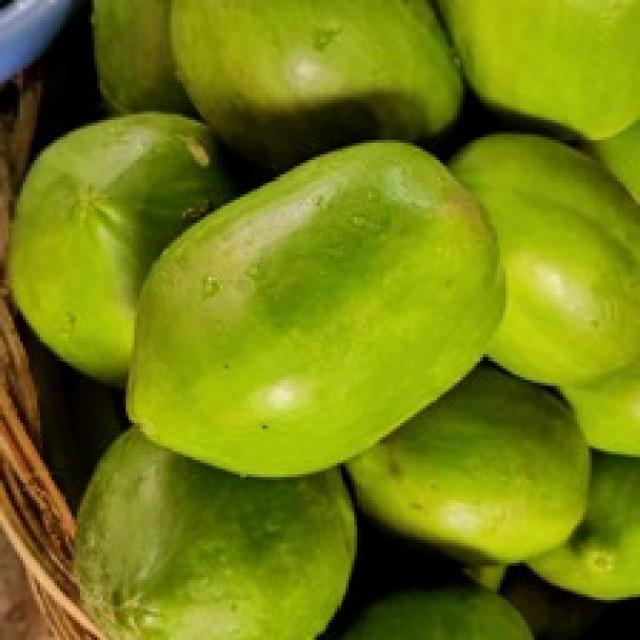Pepaya unrippen: (134, 144, 505, 493)
